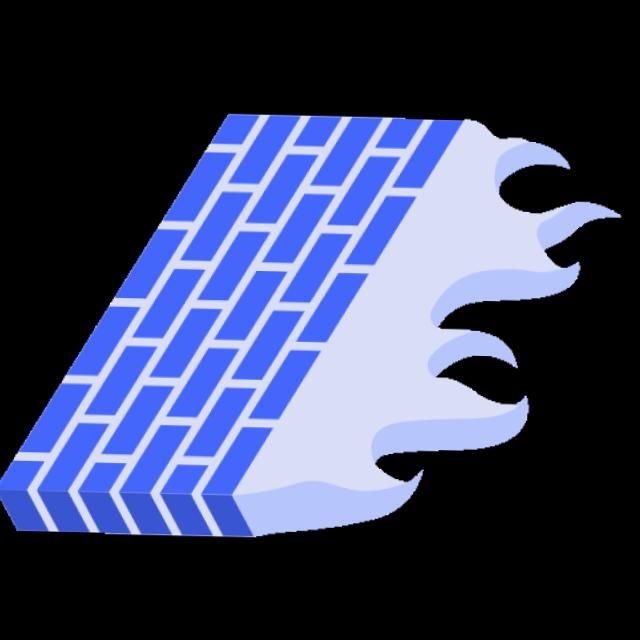Firewall: (0, 45, 630, 603)
